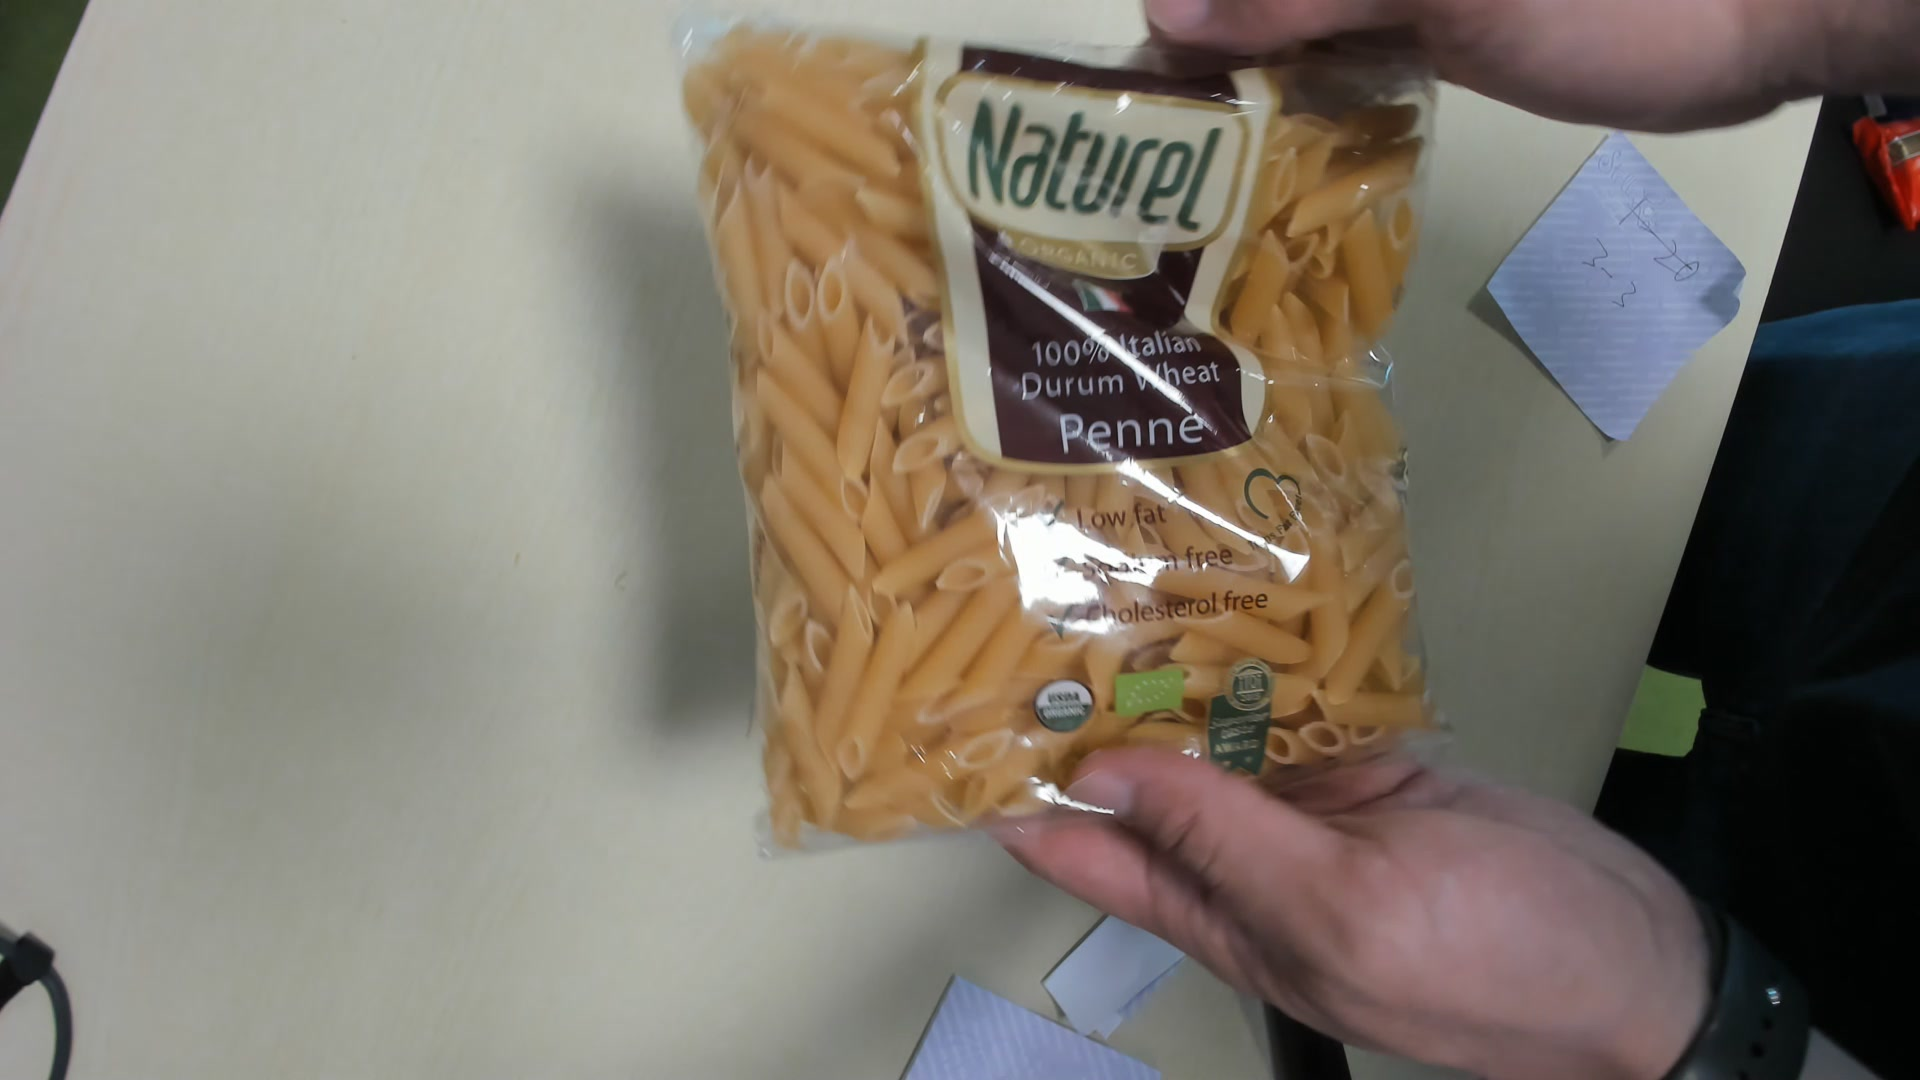Pasta_500-599g_Halal_NonHealthy: (676, 12, 1448, 852)
